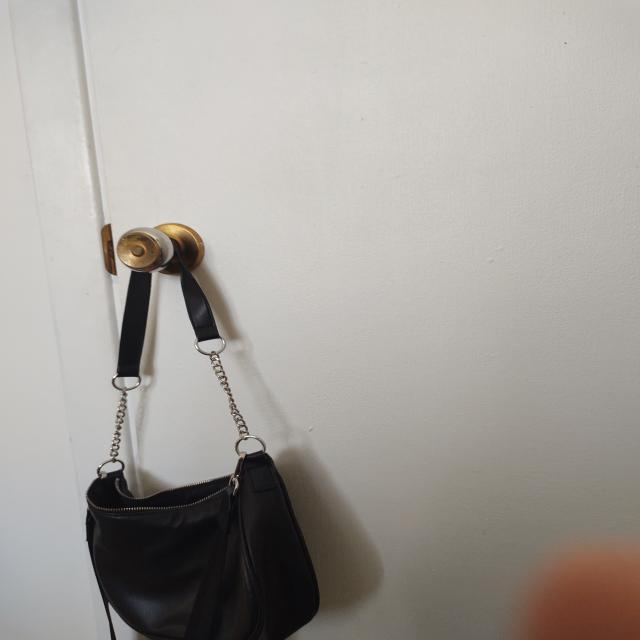door-knob: (117, 224, 204, 275)
